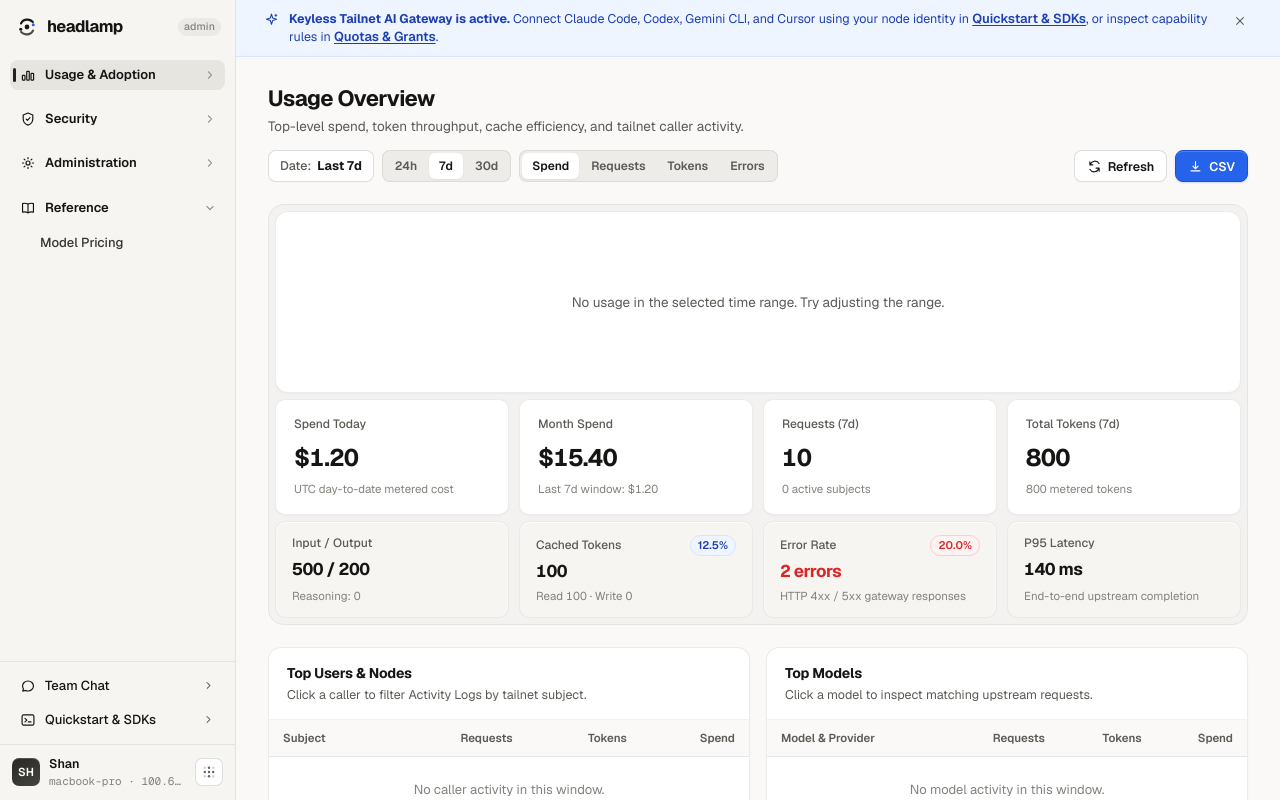
Scenario: Aperture views, collapsed sidebar accordion, confirmations, and API alignment › starts sidebar groups collapsed, syncs section toggles two-way, opens global Model Pricing, and expands group on Error Rate click
This screenshot has width=1280, height=800.
Earlier steps of the test are not shown.
Later steps or results of the test are not shown.
Click the button "Model Pricing" at coordinates (118, 243), box [10,227,225,259]
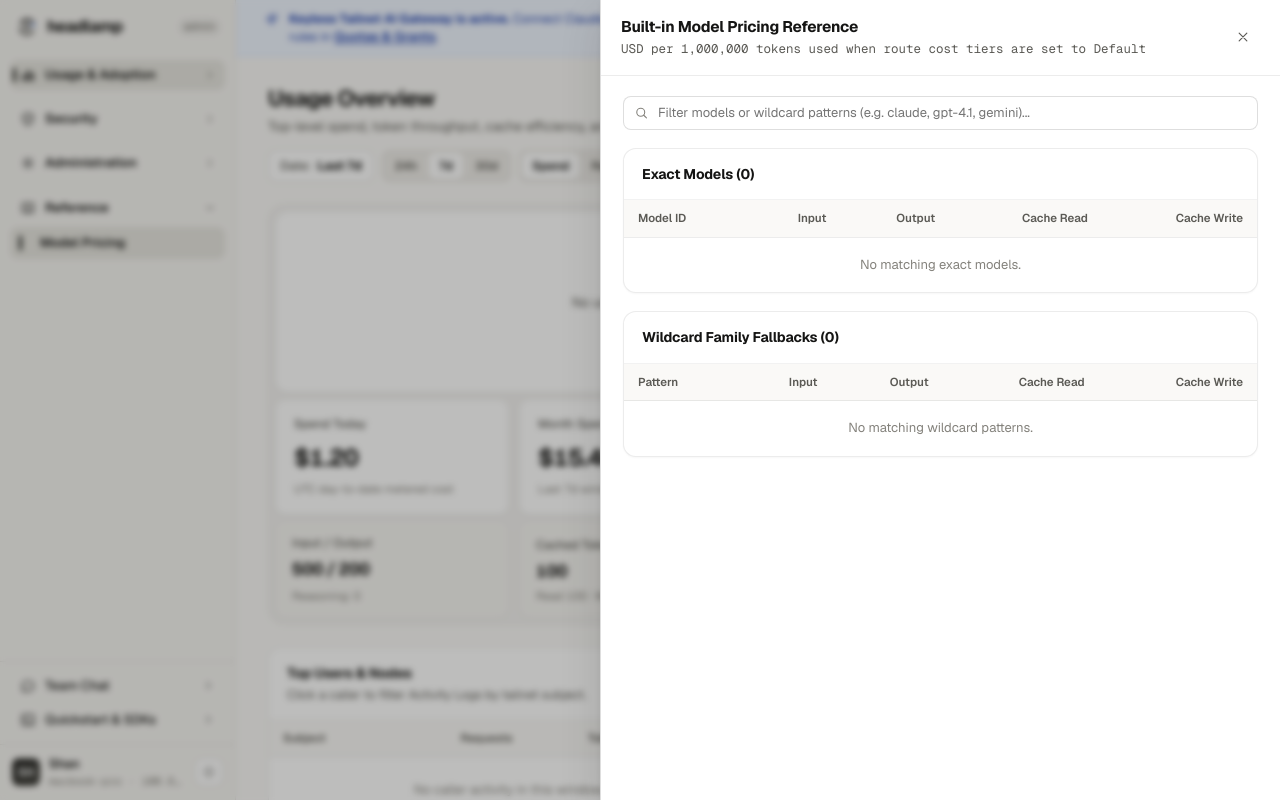
Expected: the dialog "Built-in Model Pricing Reference" is shown
Click the button named "Close" at coordinates (1243, 37), box [1226,23,1260,51]
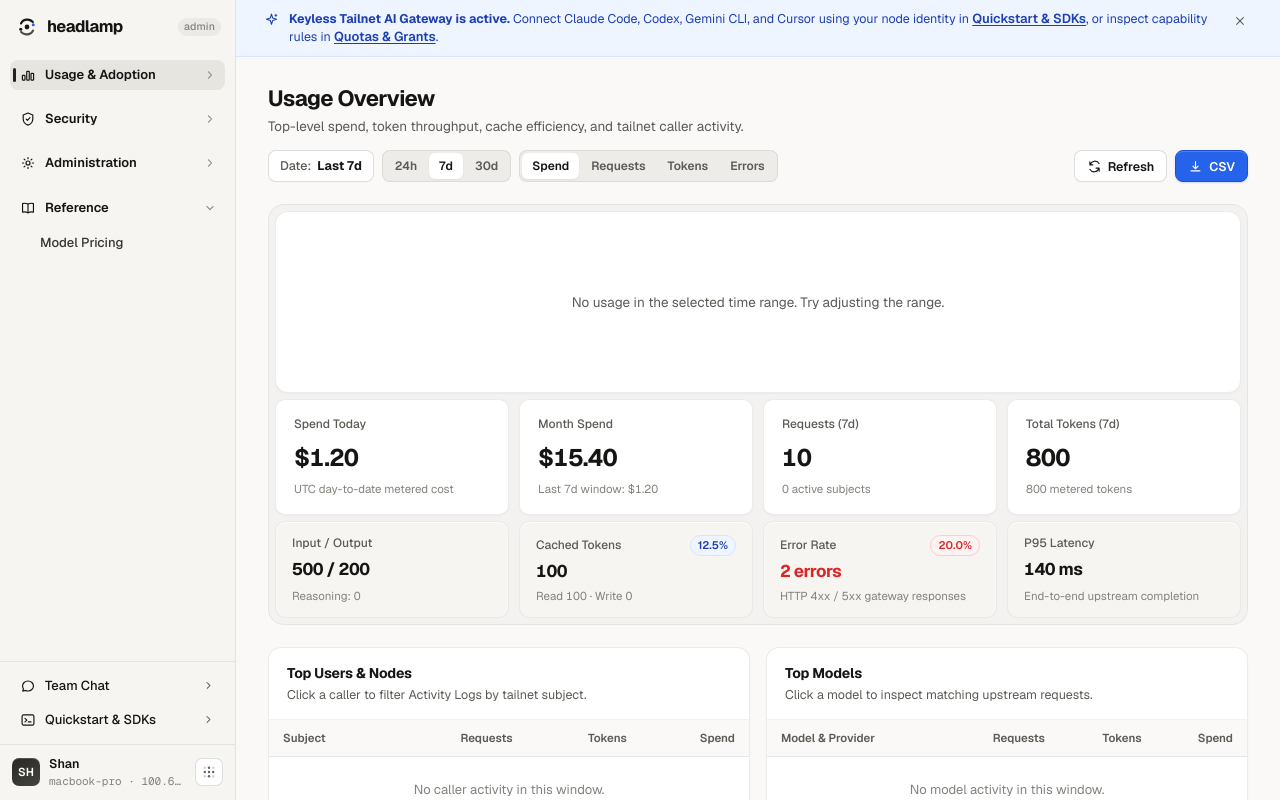
Expected: the heading "Usage Overview" is shown, [268,84,435,112]
Click the button with aria-label "Inspect error requests in Activity Logs" at coordinates (880, 570), box [763,521,997,618]
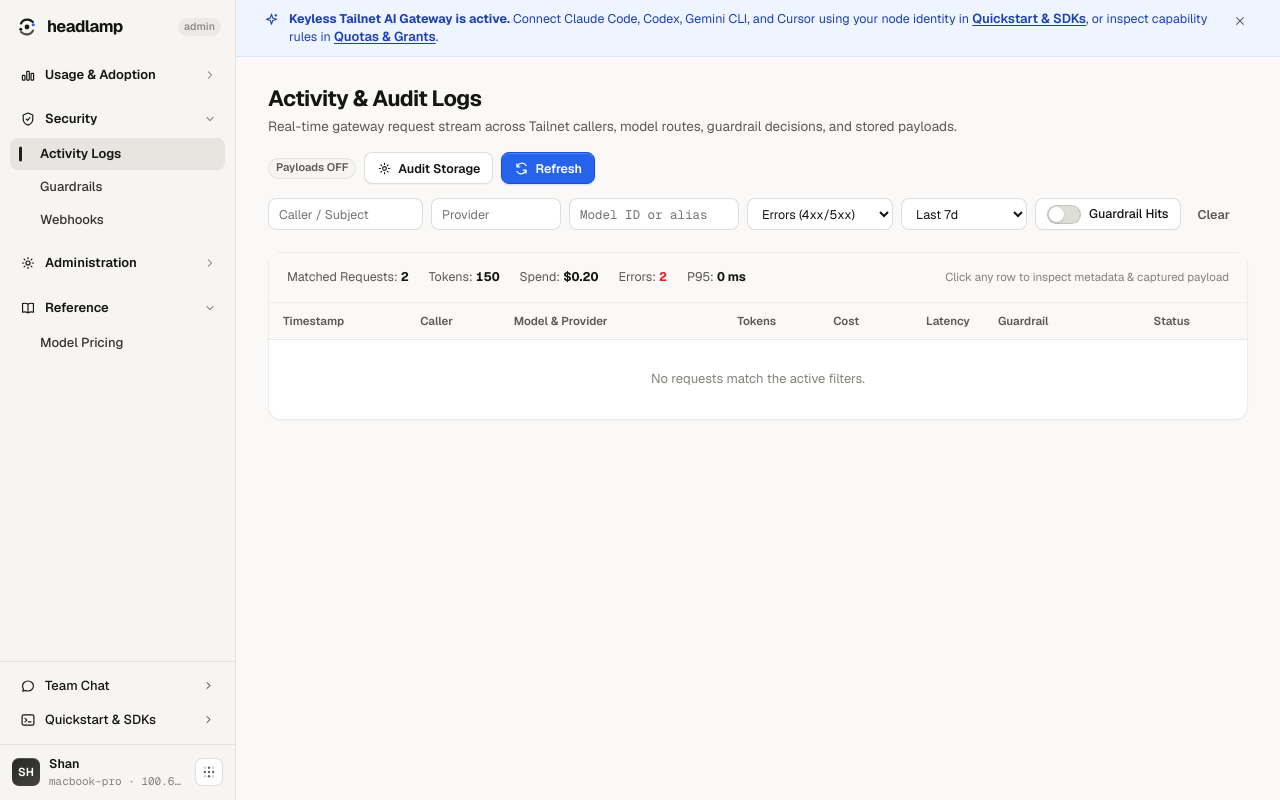
Expected: the heading "Activity & Audit Logs" is shown, [268,84,481,112]
Click the button "Administration" at coordinates (118, 264), box [10,248,225,279]
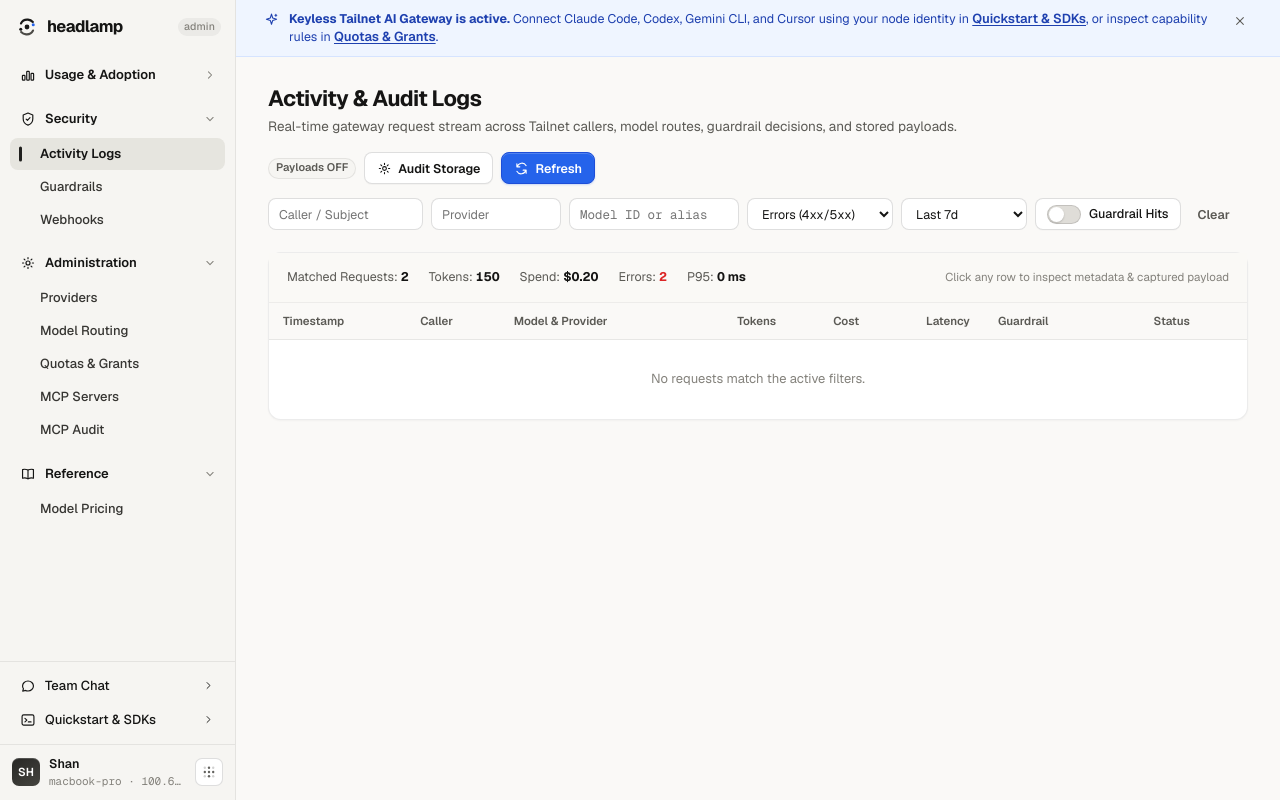
Click the button "Providers" at coordinates (118, 299), box [10,283,225,315]
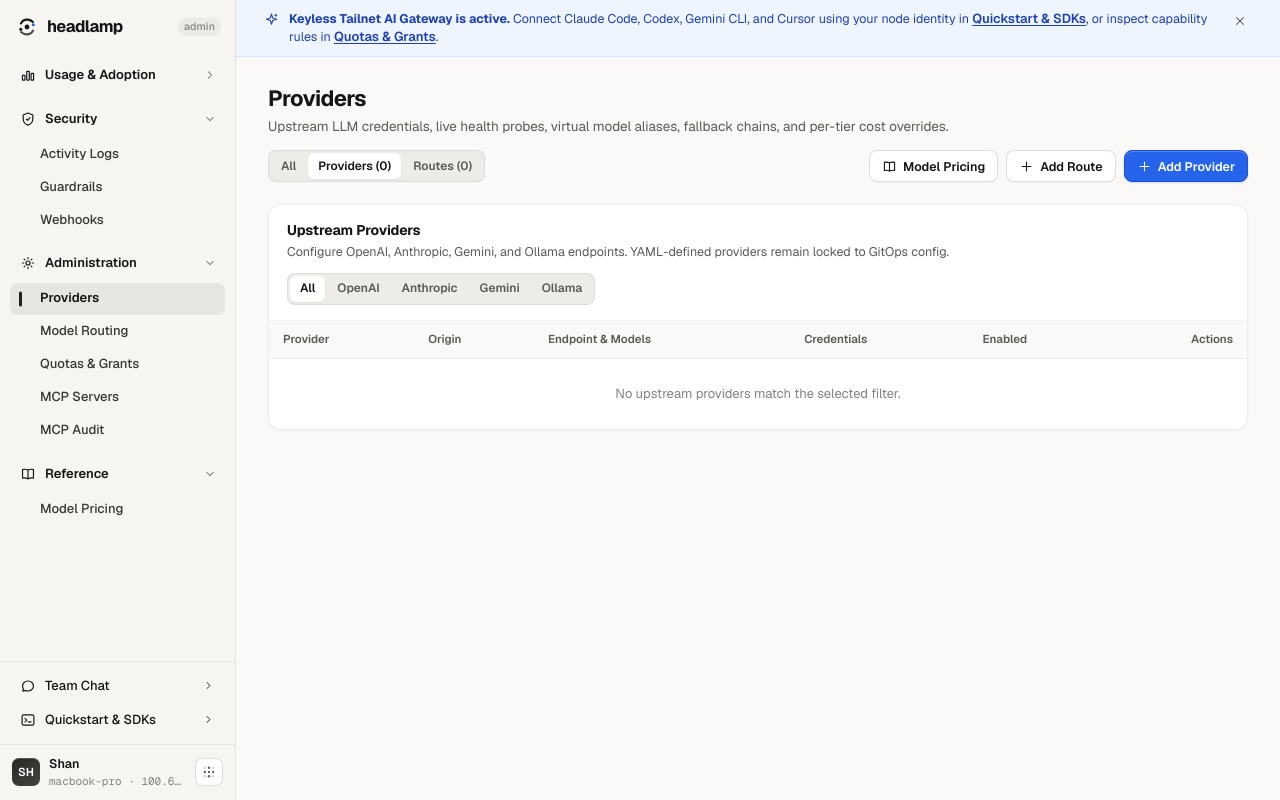
Expected: the button "Providers" has attribute data-active="true", [10,283,225,315]
Click the tab "Routes (0)" at coordinates (443, 166), box [403,153,482,179]
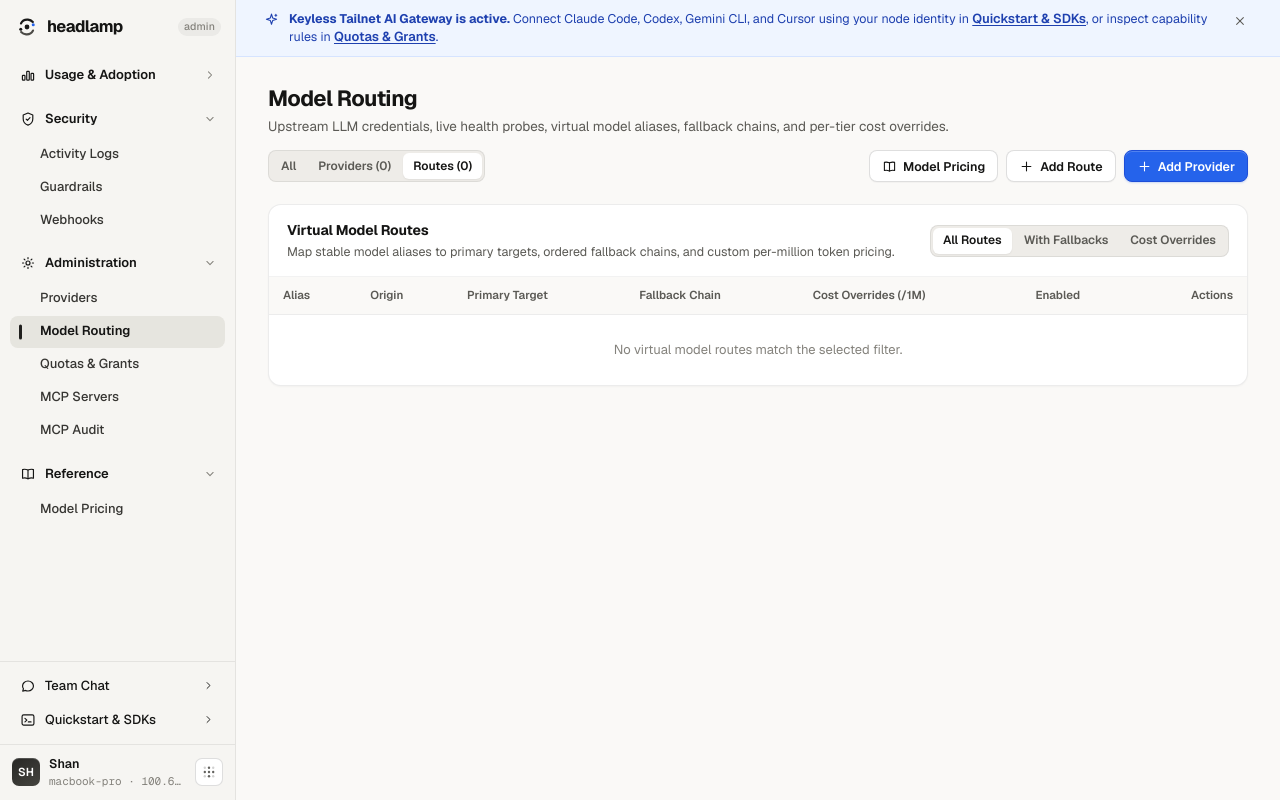
Expected: the button "Model Routing" has attribute data-active="true", [10,316,225,348]
Expected: the button "Providers" has attribute data-active="false", [10,283,225,315]
